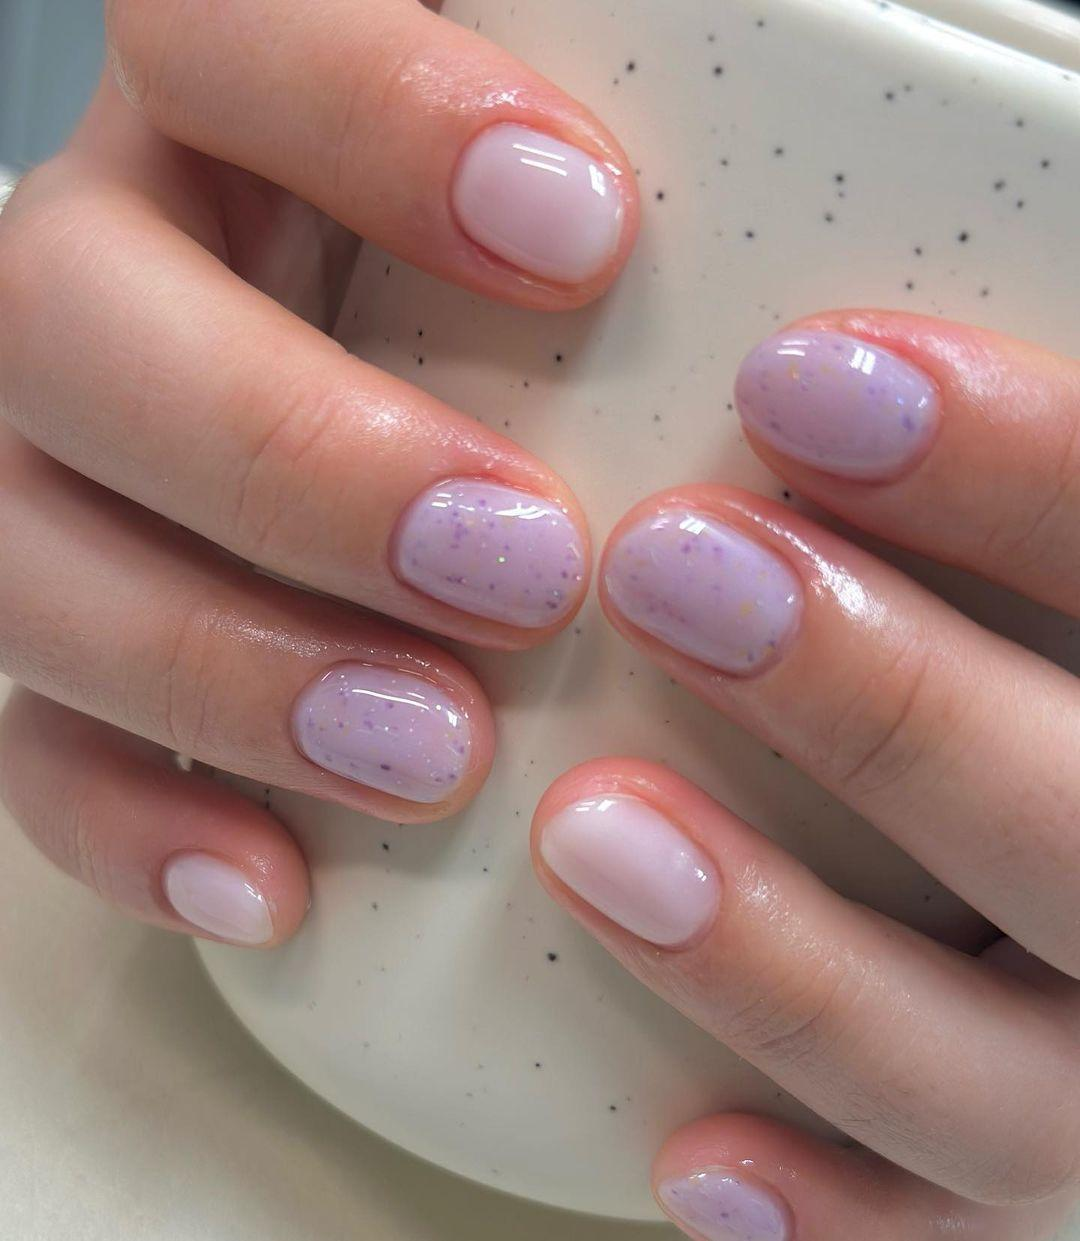nail: (601, 501, 806, 680), (732, 326, 944, 486), (386, 472, 588, 632), (446, 117, 628, 290), (538, 790, 723, 952), (288, 657, 473, 806), (158, 845, 274, 947), (653, 1164, 795, 1239)
